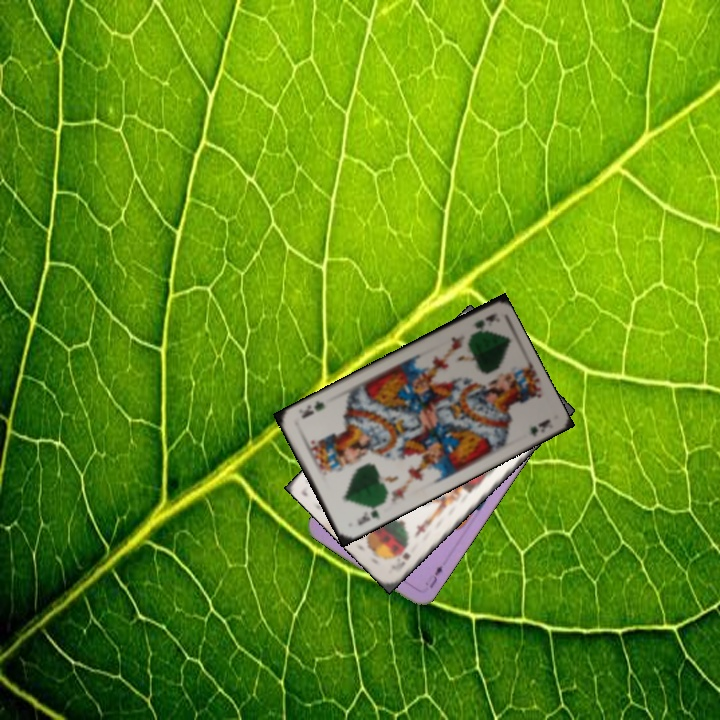EU: (425, 561, 446, 591)
GK: (353, 500, 384, 528), (472, 310, 498, 332)
SK: (387, 549, 413, 572)
